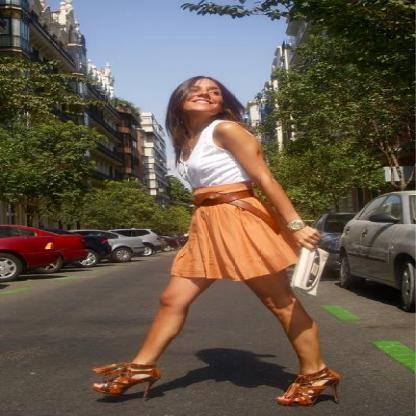bag: (290, 248, 329, 294)
shirt: (166, 120, 244, 195)
shoe: (94, 366, 341, 402)
skirt: (172, 182, 308, 280)
